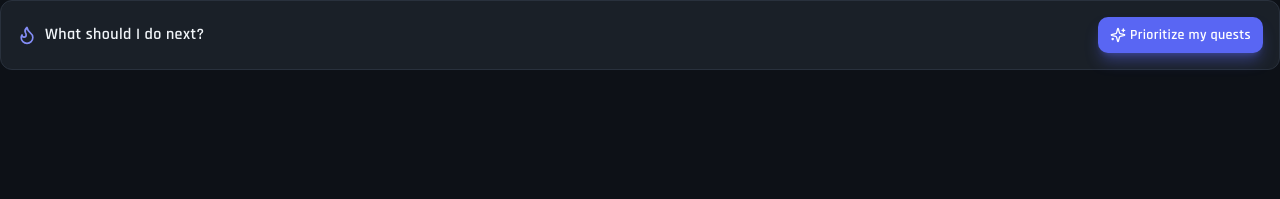
PriorityPanel › shows a rejected suggestion again after Refresh
The image size is (1280, 199).
Click the button "Prioritize my quests" at (1180, 35), box [1098,17,1263,53]
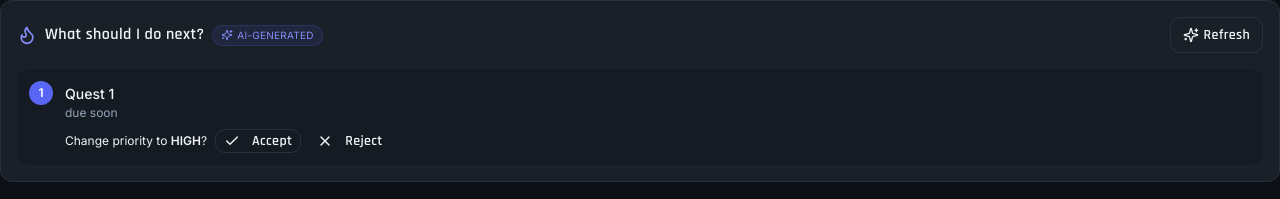
Click the button "Reject" at (350, 141), box [309,129,391,153]
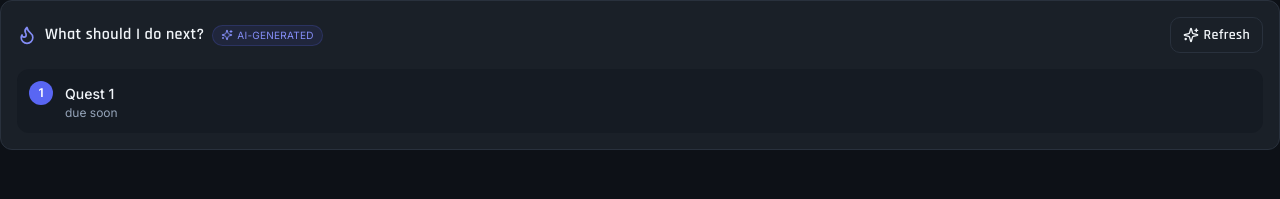
Check: the button "Reject" is gone
Click the button "Refresh" at (1217, 35), box [1170,17,1263,53]
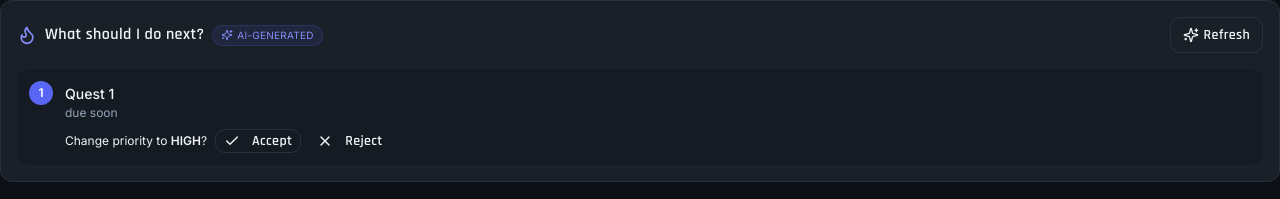
Check: the button "Reject" is shown, box [309,129,391,153]
